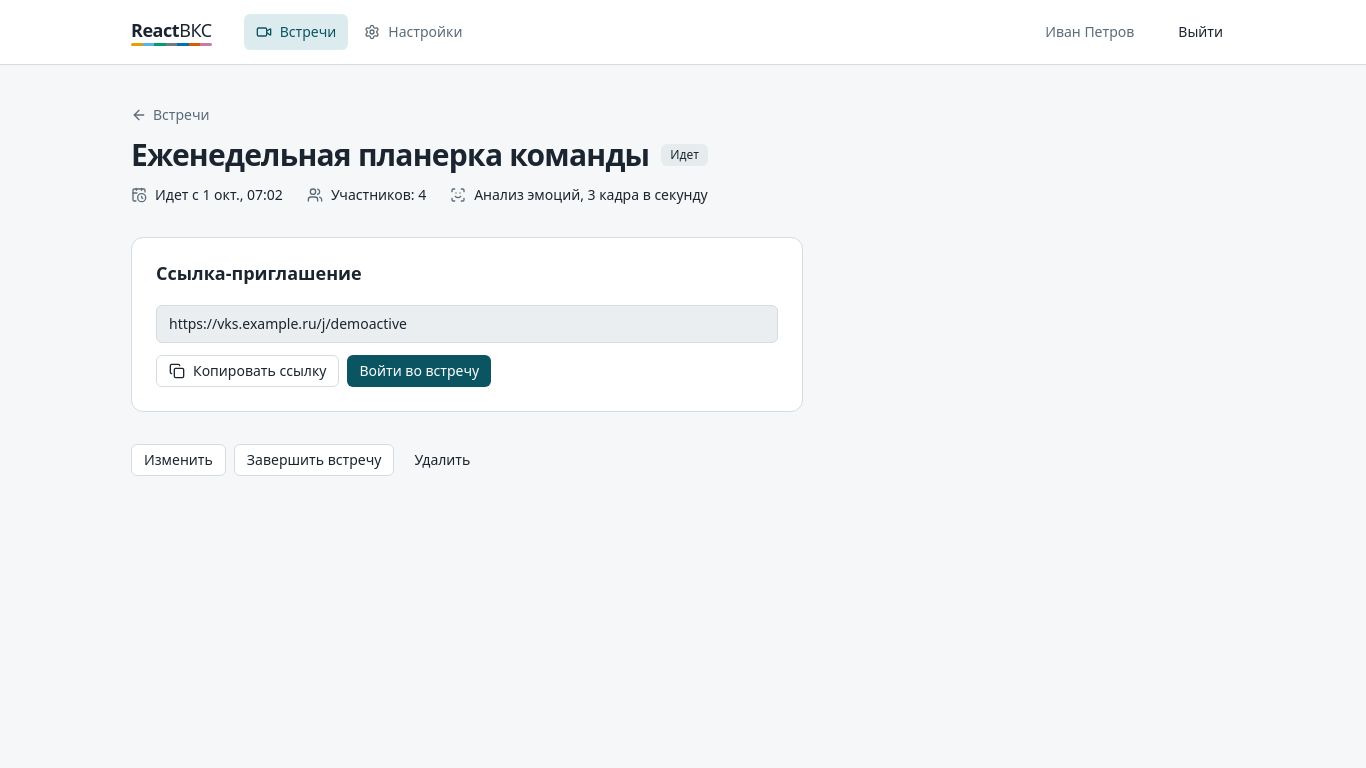
карточка встречи › управление › завершение: подтверждение, затем статус «Завершена»
Click the button "Завершить встречу".
click(314, 460)  # box [234,444,394,476]
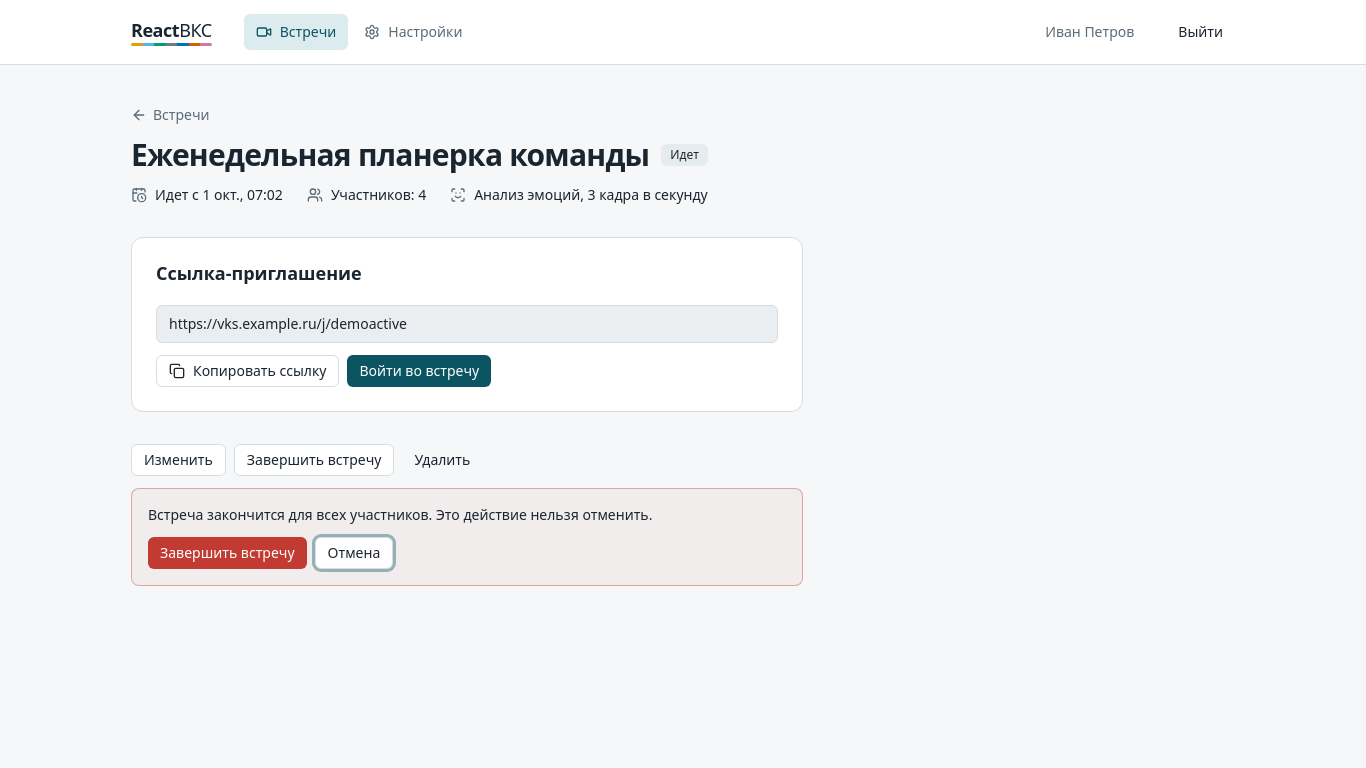
Result: the dialog shows "закончится для всех участников" at [148,504,652,524]
Click the 2nd button "Завершить встречу".
click(227, 552)  # box [148,536,306,568]
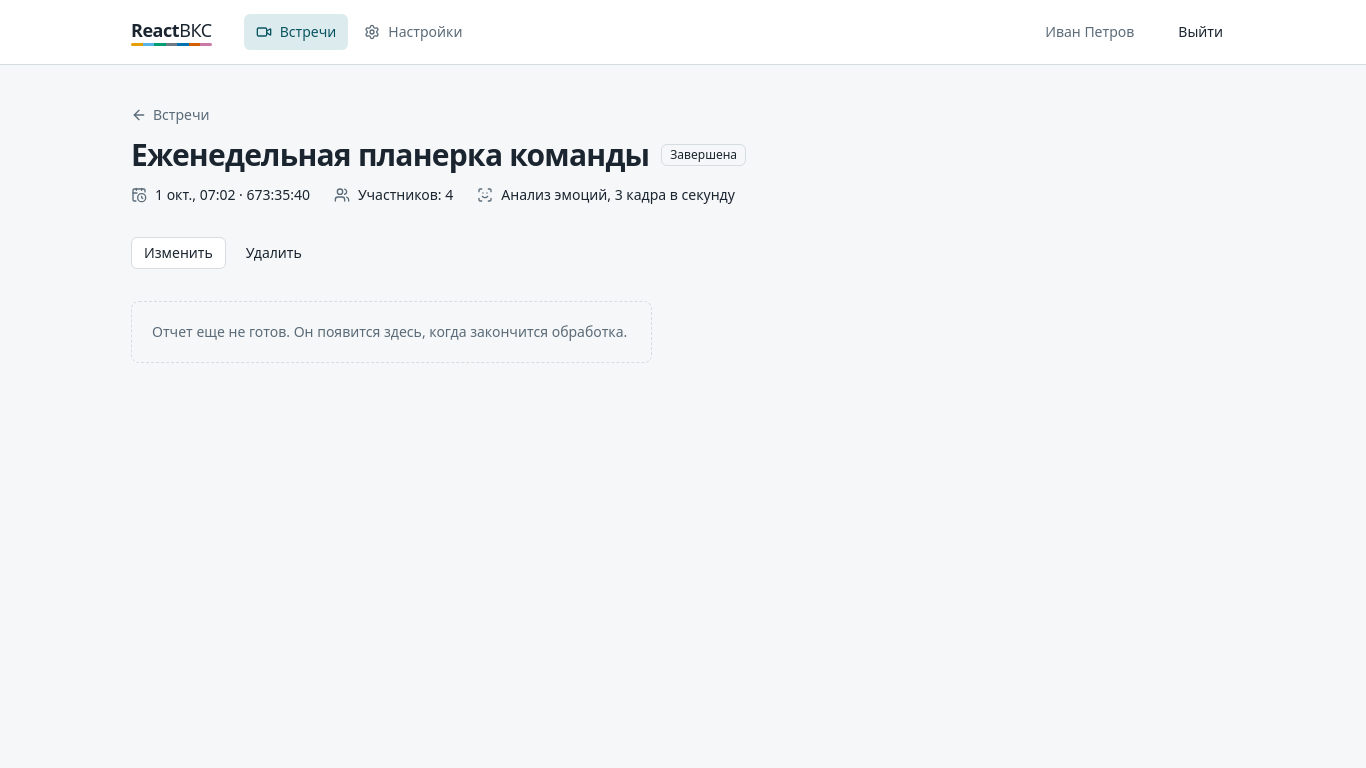
Result: the text "Завершена" is shown at [661,144,746,166]
